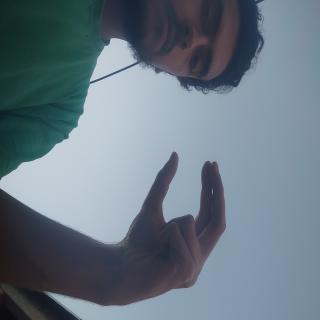DHELL: (113, 113, 235, 285)
